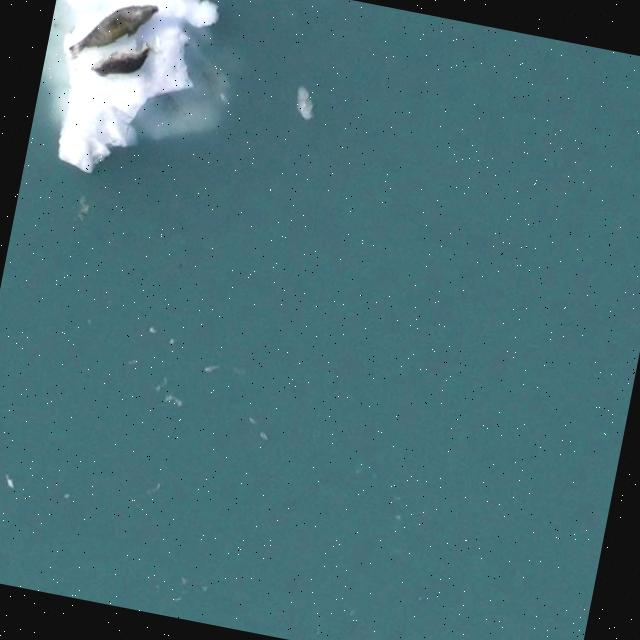seal: (69, 4, 158, 56), (93, 48, 149, 75)
